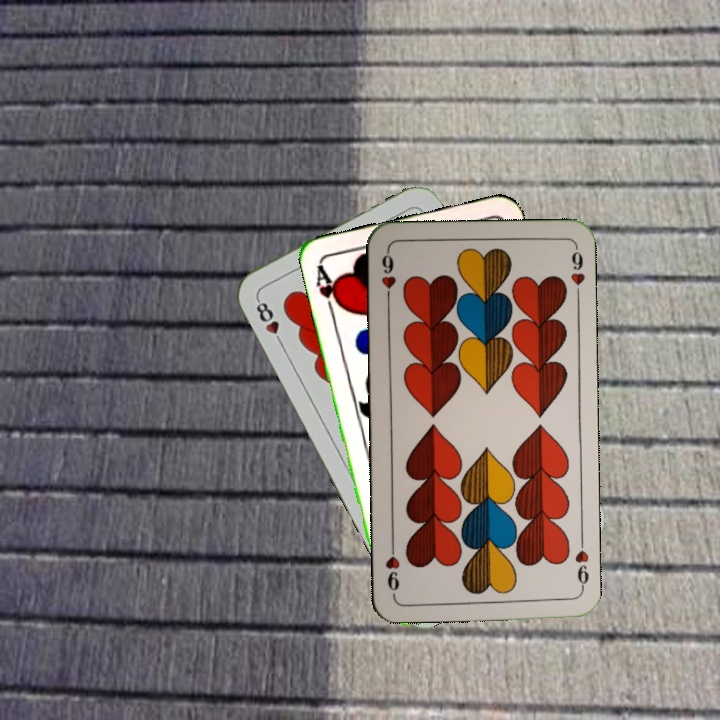H8: (252, 294, 287, 349)
H9: (377, 247, 398, 306), (571, 534, 592, 593)
HA: (312, 261, 345, 320)
